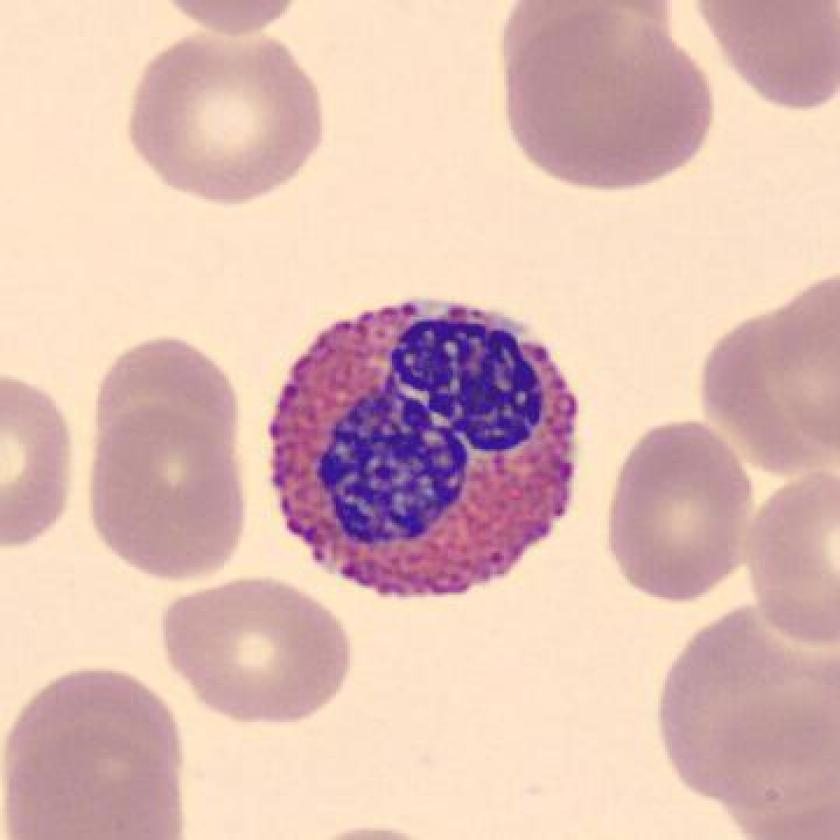eosinophil: (256, 279, 599, 617)
